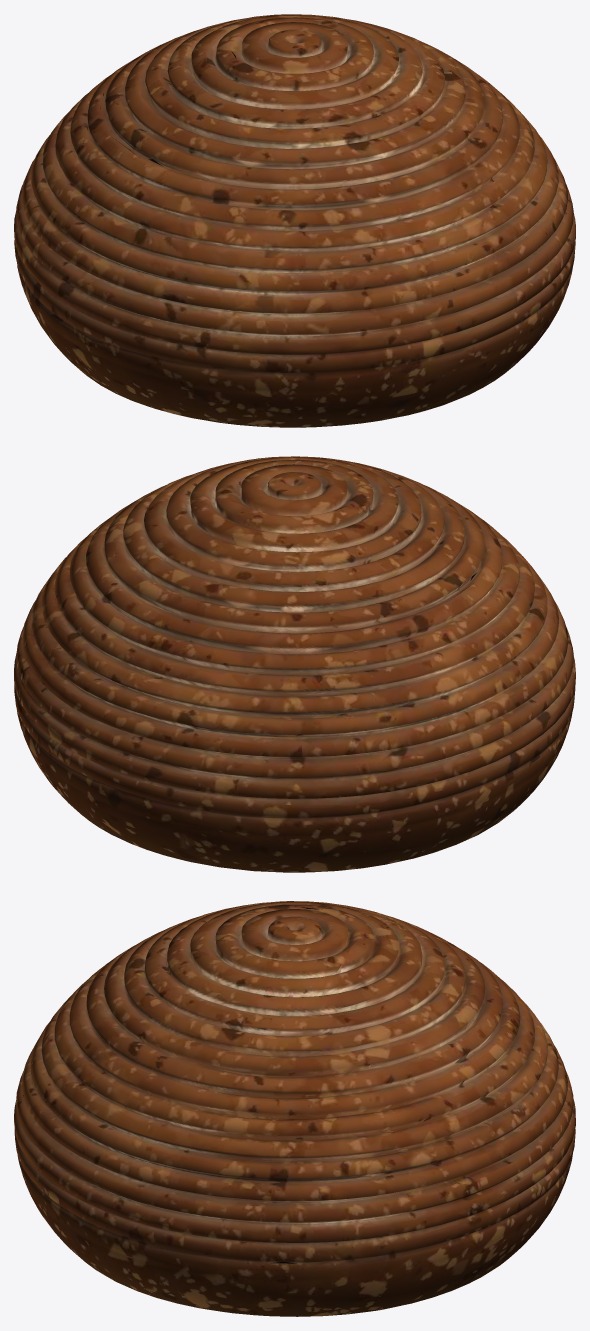
Rendered from wholewheat--chestnut-flour.glb.
3 views of the same model, one above another, from view 1: azimuth 30°, elevation 25°; view 2: azimuth 150°, elevation 25°; view 3: azimuth 270°, elevation 25° (orthographic).
Parts seen in each view (by area): view 1: wholewheat_chestnut-flour; view 2: wholewheat_chestnut-flour; view 3: wholewheat_chestnut-flour.
Part boxes in pixels (x1,y1,x2,y2): wholewheat_chestnut-flour: (14, 14, 575, 427); wholewheat_chestnut-flour: (14, 456, 575, 872); wholewheat_chestnut-flour: (14, 901, 575, 1316).
Size of the model in its own units: 0.9999 by 0.5691 by 0.998.
Materials: 1 (1 with a texture image).
